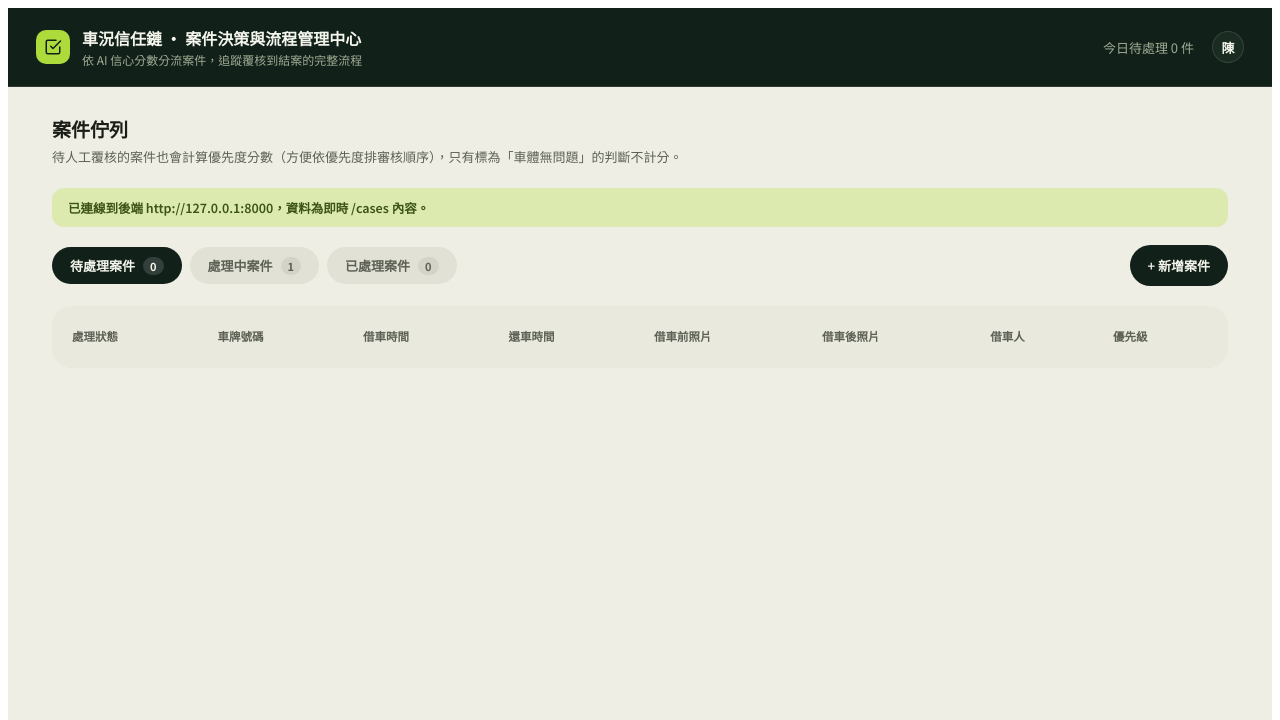
Test: production backstage console › sets the payment amount through Module E while the Case is processing
The width and height of the screenshot is (1280, 720).
Expected: the text "已連線到後端 http://127.0.0.1:8000，資料為即時 /cases 內容。" is shown, [52,188,1228,227]
Click the button "處理中案件 1".
click(254, 266)  # box [190,247,319,284]
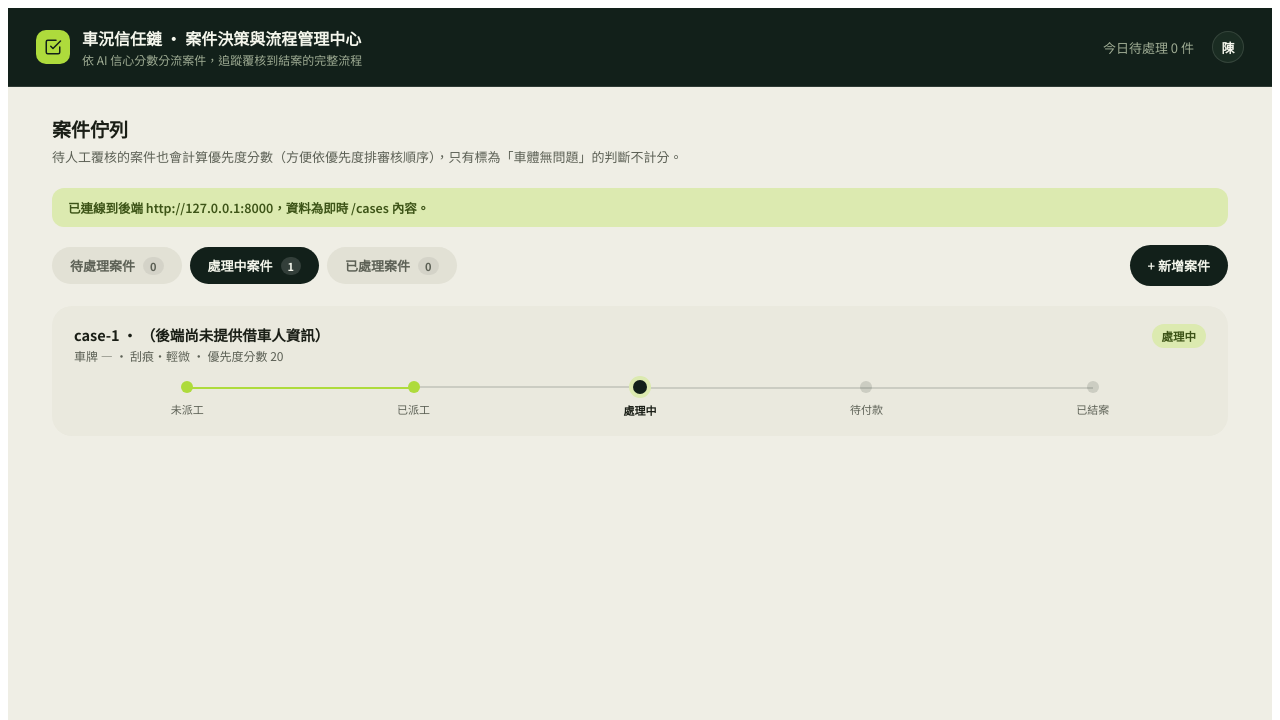
Click the element that starts with "case-1".
click(640, 371)  # box [52,306,1228,436]
(page scrolled)
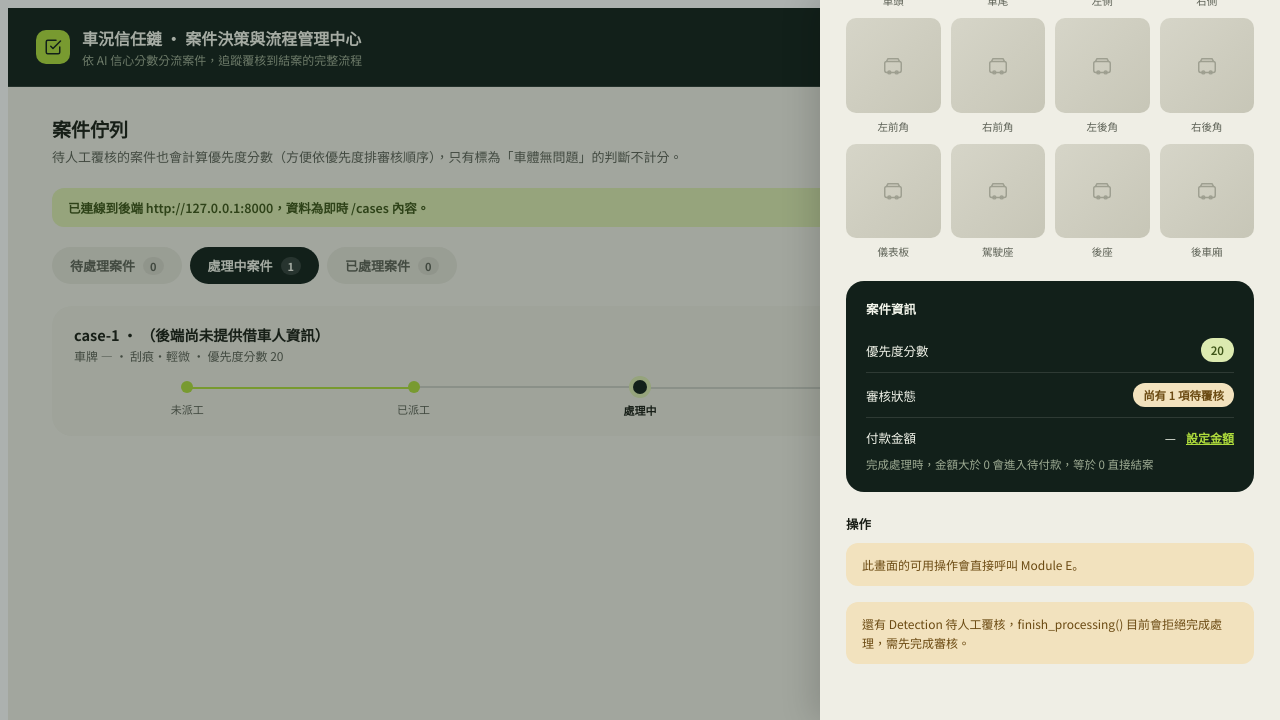
Result: the text "完成處理時，金額大於 0 會進入待付款，等於 0 直接結案" is shown at [866,456,1154,472]
Click the button "設定金額".
click(1210, 438)  # box [1186,429,1234,446]
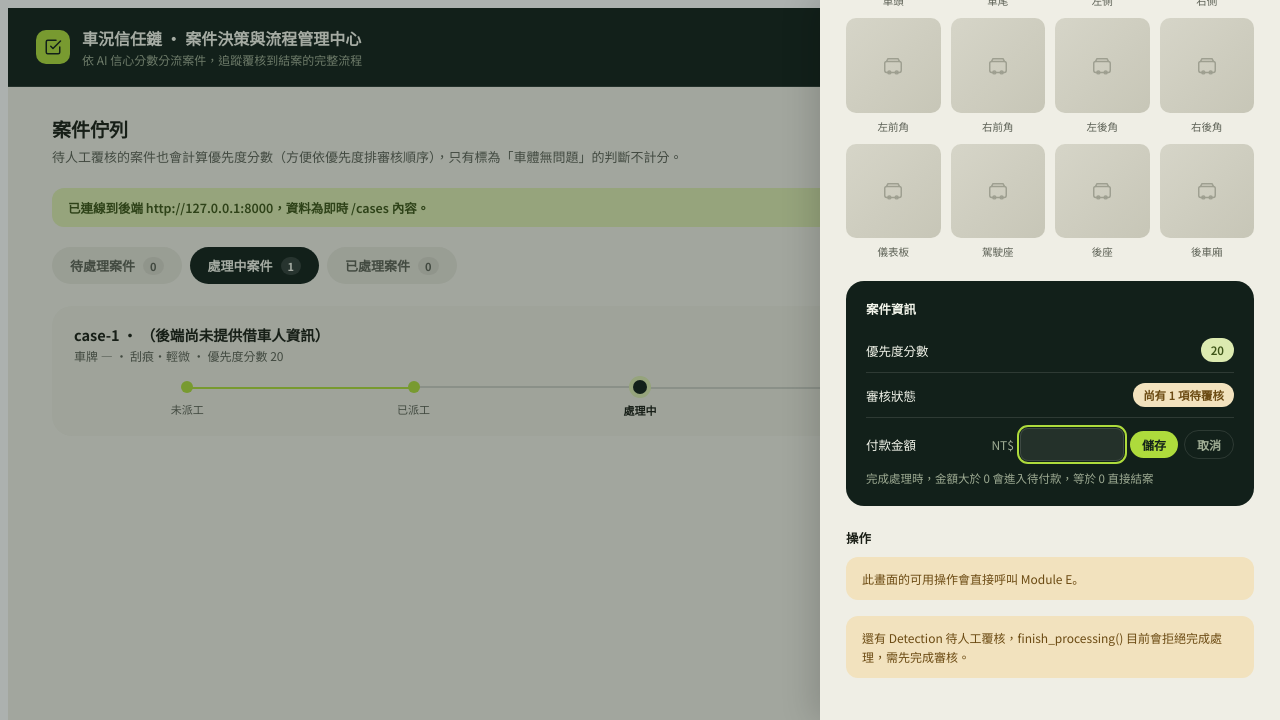
Type "2,400" into the field named "付款金額".
click(1072, 445); type("2,400")  # box [1020,428,1124,461]
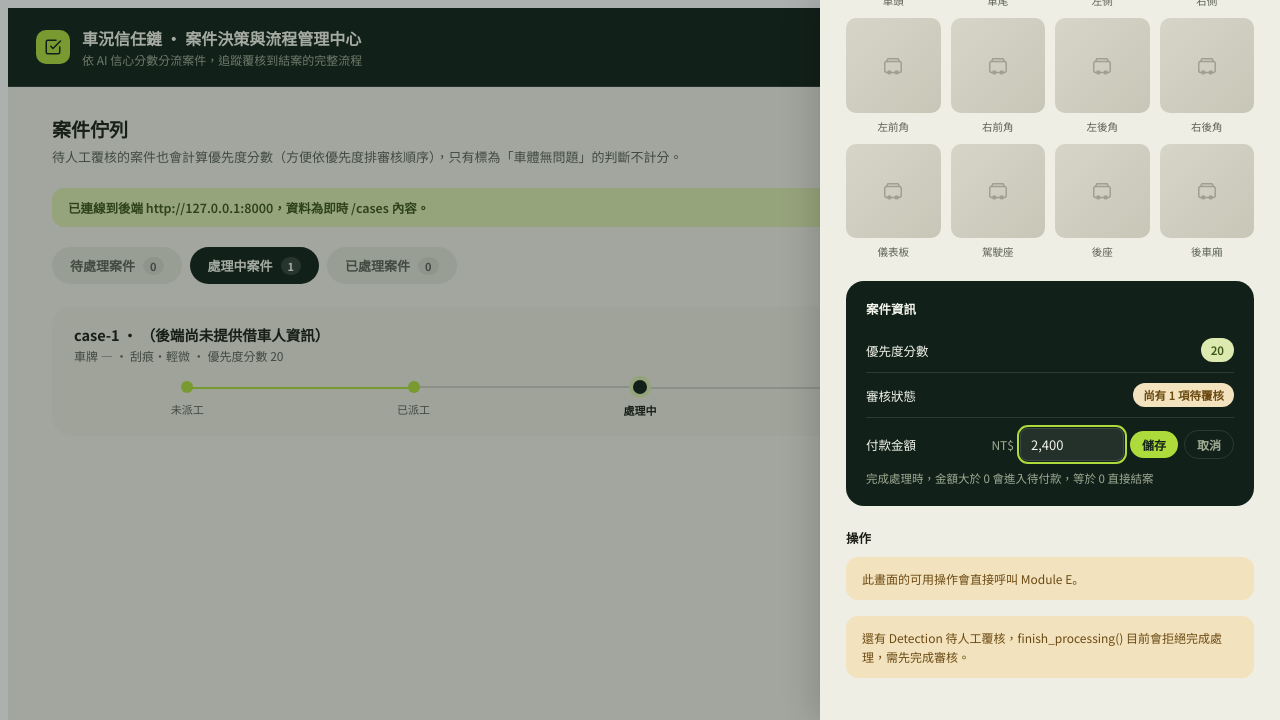
Click the button "儲存".
click(1154, 445)  # box [1130,431,1178,458]
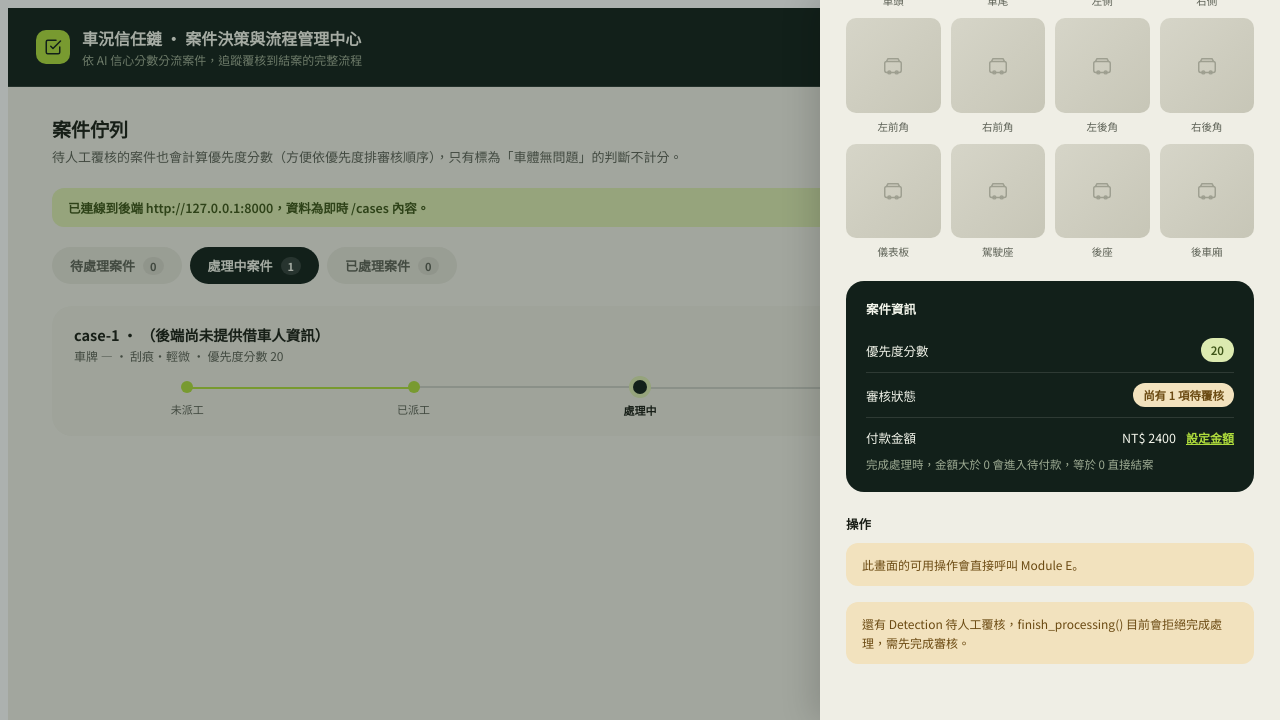
Result: the text "NT$ 2400" is shown at [1122,428,1176,447]
